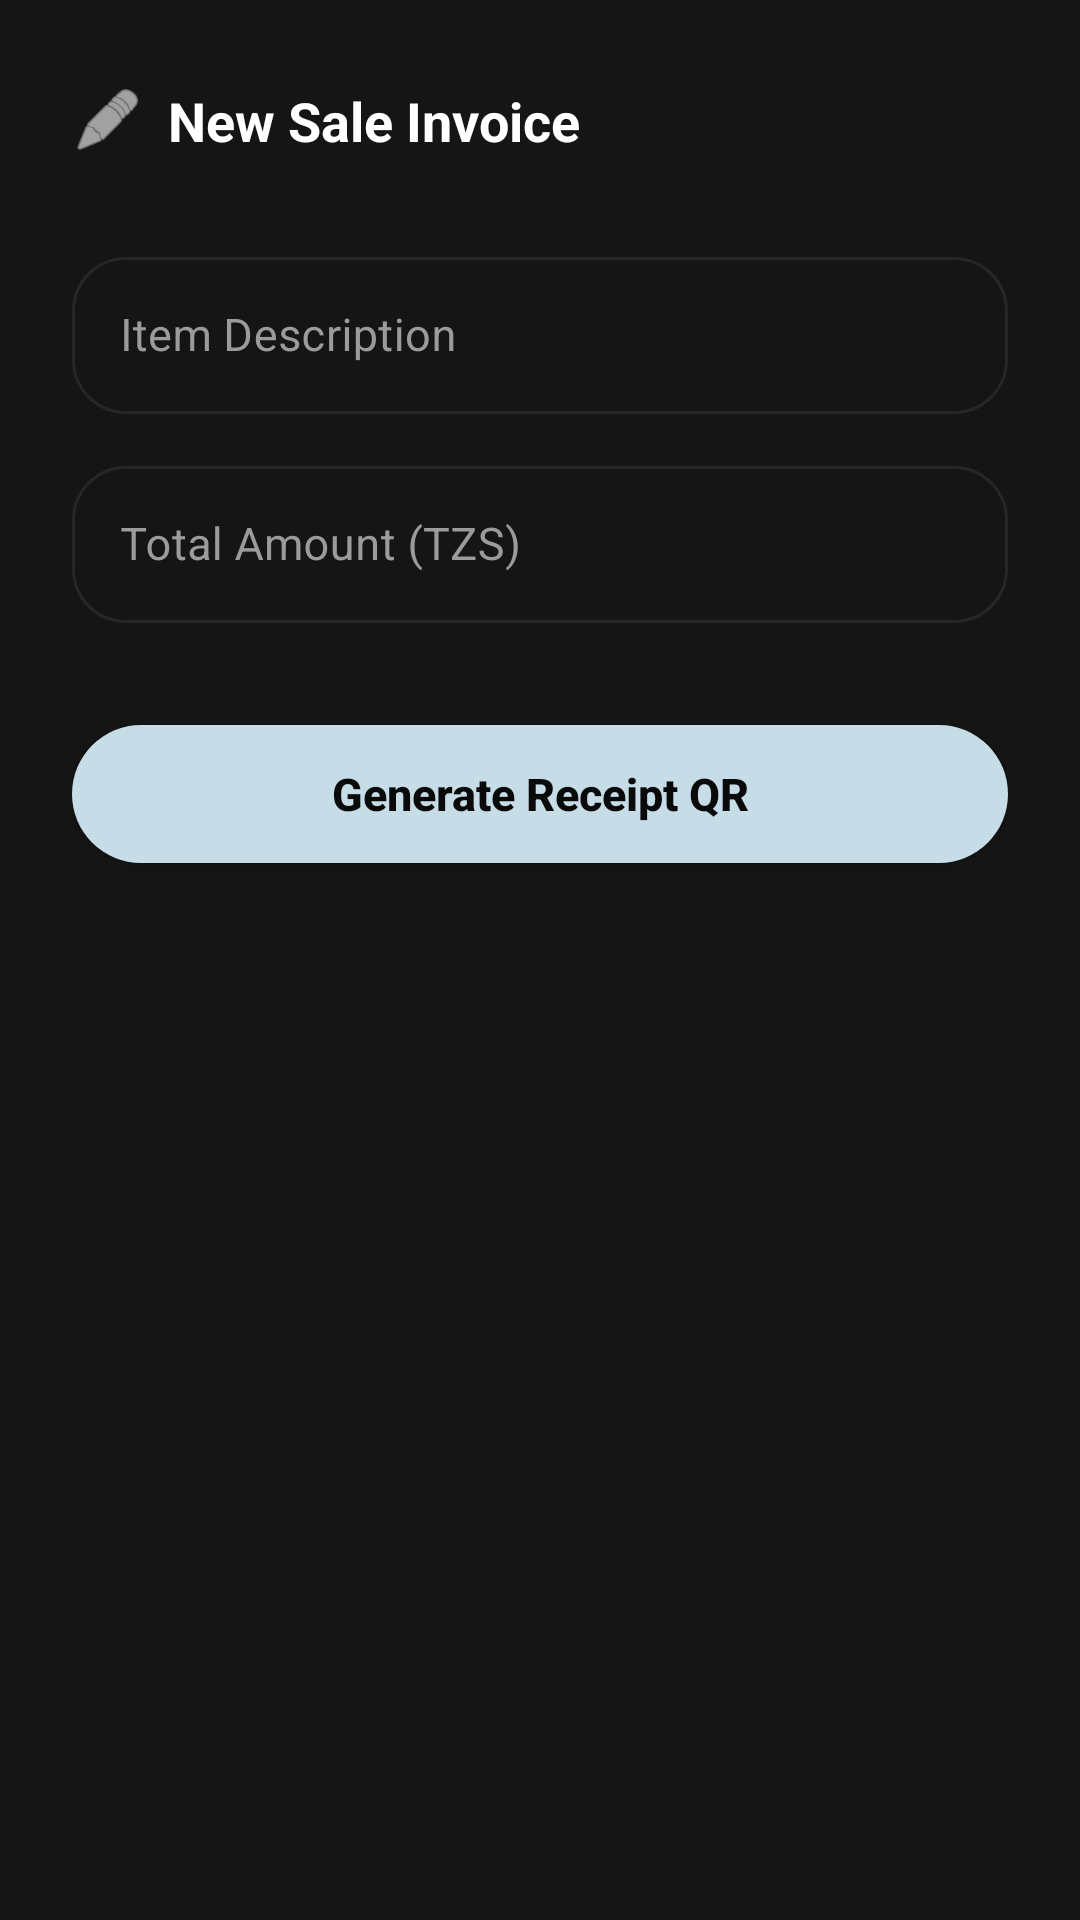

Where icons sit on this 1080px×1920px app screen, as box(x1, y1, x2, y2):
edit: box(77, 89, 138, 150)
